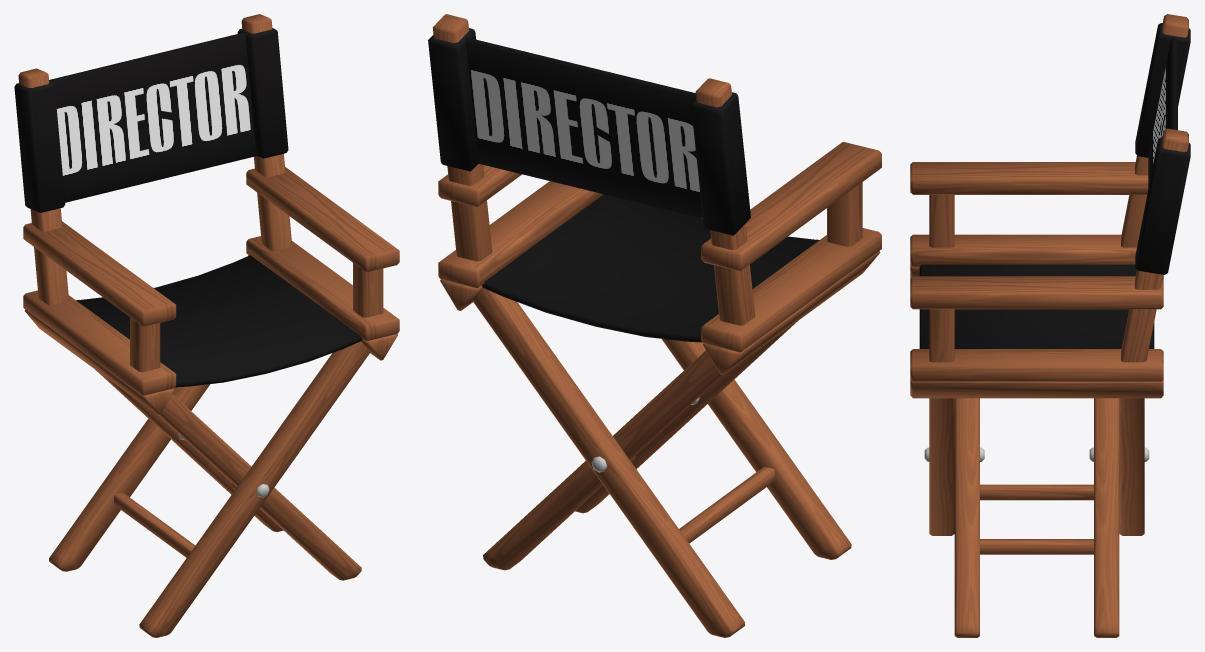
The model's file is item-06.glb.
The picture shows the model from 3 angles, left to right: view 1: azimuth 30°, elevation 25°; view 2: azimuth 150°, elevation 25°; view 3: azimuth 270°, elevation 25°; orthographic projection. The views are drawn at different scales.
Parts seen in each view (by area): view 1: Chair; view 2: Chair; view 3: Chair.
Part boxes in pixels (x1,y1,x2,y2): Chair: [14, 14, 399, 637]; Chair: [428, 14, 881, 637]; Chair: [910, 14, 1190, 637].
Size of the model in its own units: 0.7175 by 1.28 by 0.6414.
1 material, 1 textured.
